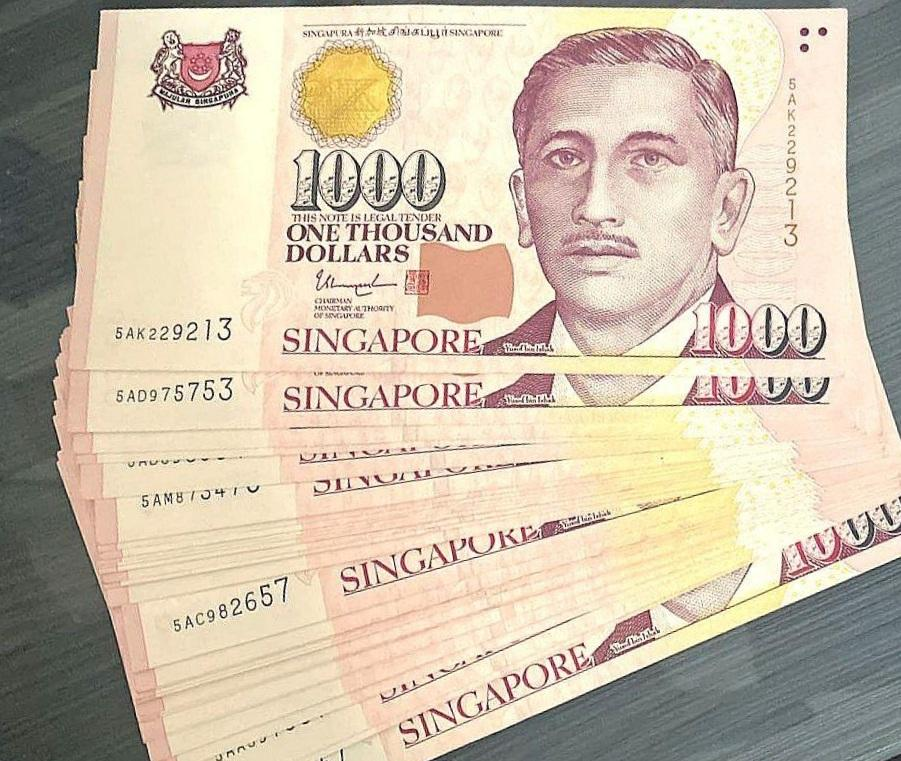1000SingaporeDollar: (110, 16, 834, 366)
